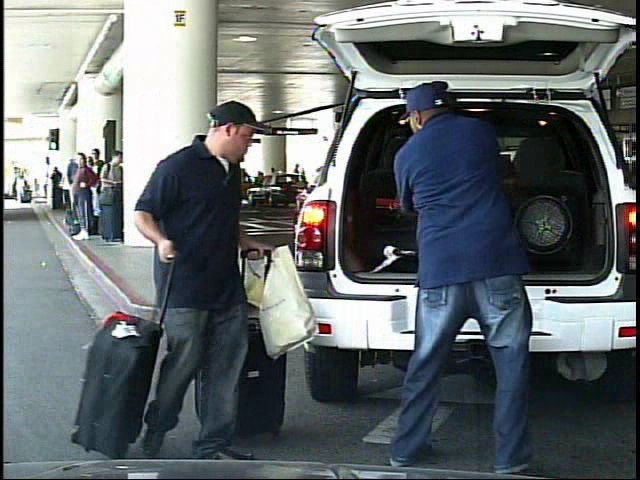person: (376, 75, 561, 477), (130, 103, 269, 459), (291, 162, 304, 198), (16, 172, 27, 203)
